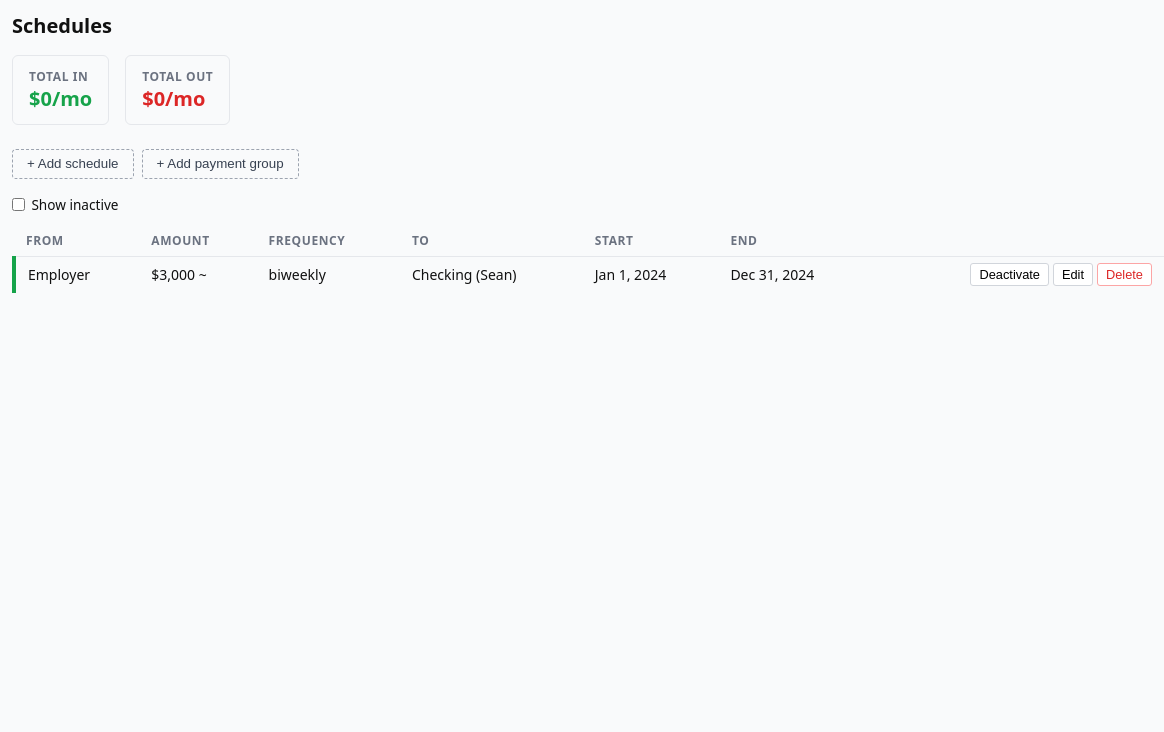
Scenario: SchedulesView — with schedules › hides Edit form when Cancel is clicked
Click the button "Edit": (1073, 275) x1=1053 y1=263 x2=1093 y2=286
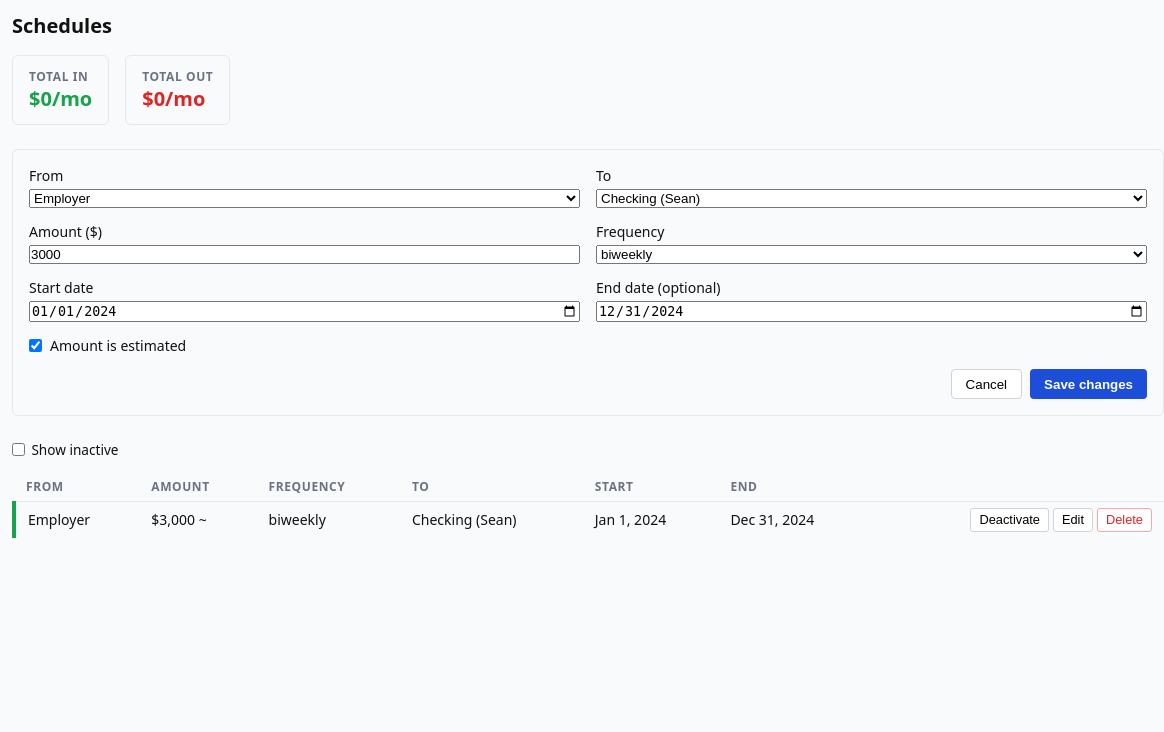
Click the button "Cancel": (986, 384) x1=951 y1=369 x2=1022 y2=399
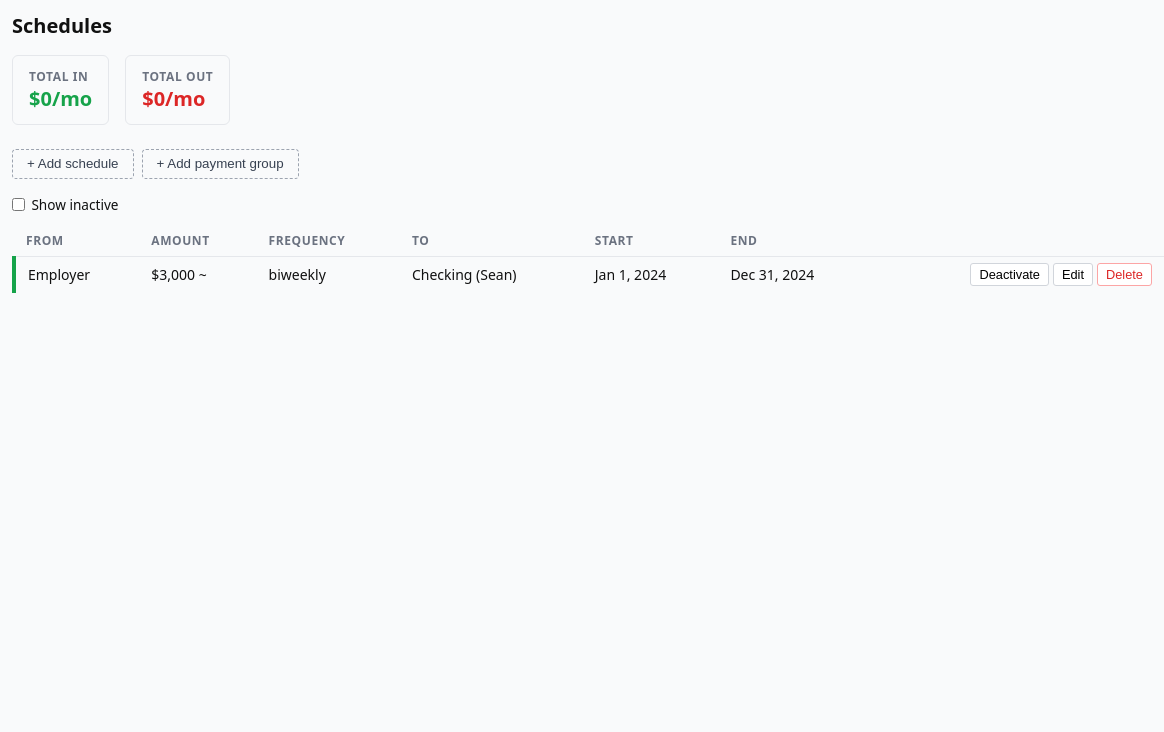
Check: the button "Save changes" is gone
